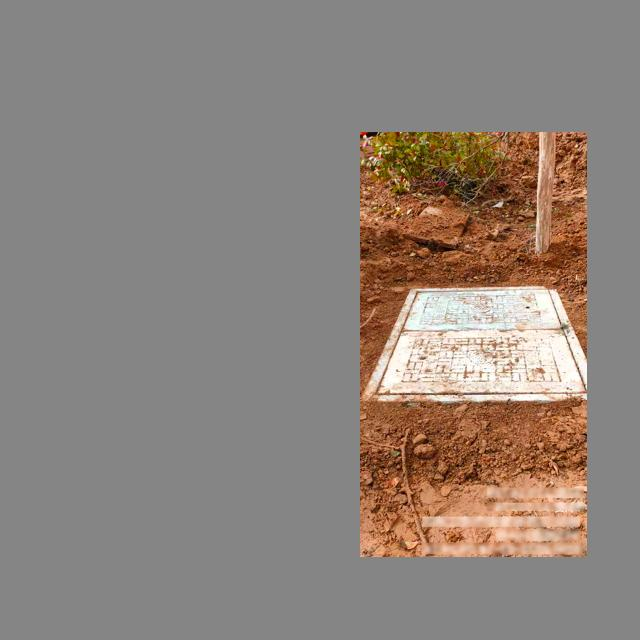good: (366, 280, 587, 401)
